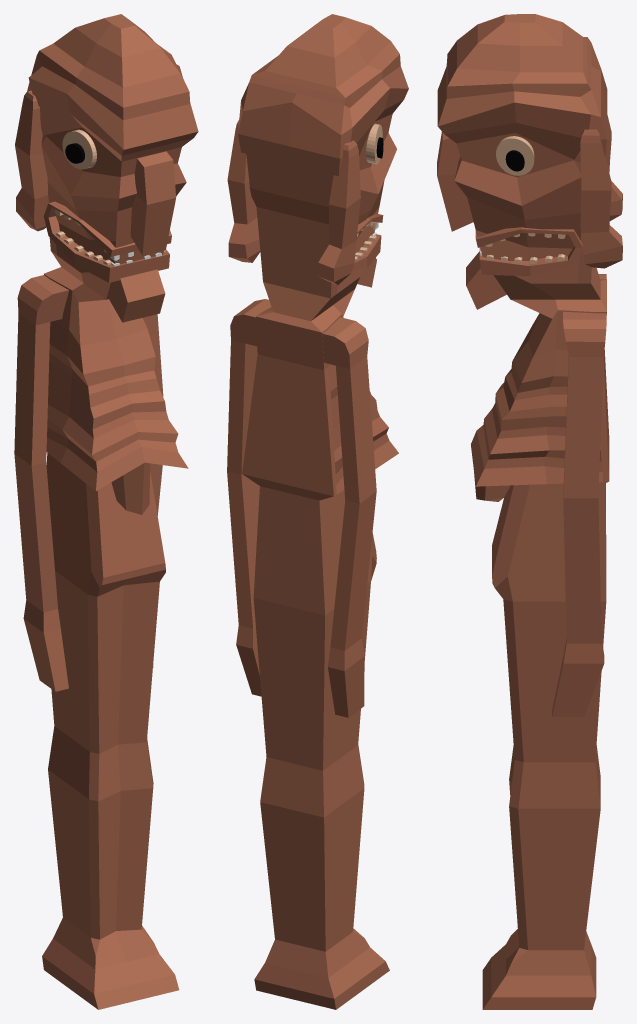
The model's file is Diablo.fbx.
3 views of the same model, side by side, from view 1: azimuth 30°, elevation 25°; view 2: azimuth 150°, elevation 25°; view 3: azimuth 270°, elevation 25° (orthographic).
Parts seen in each view (by area): view 1: Cube, Cube.006, Cube.004, Cube.005, Cube.002, Cube.001, Cube.007, Cylinder; view 2: Cube, Cube.006, Cube.005, Cube.002, Cylinder; view 3: Cube, Cube.006, Cube.005, Cube.002, Cube.004, Cube.001, Cylinder, Cube.007, Cube.017.
Part boxes in pixels (left/top/right/bottom): Cube: left=27, top=14, right=198, bottom=1009; Cube.006: left=14, top=275, right=163, bottom=691; Cube.004: left=130, top=151, right=176, bottom=255; Cube.005: left=15, top=90, right=48, bottom=231; Cube.002: left=43, top=201, right=171, bottom=282; Cube.001: left=107, top=269, right=165, bottom=322; Cube.007: left=111, top=462, right=150, bottom=514; Cylinder: left=62, top=129, right=96, bottom=169; Cube: left=238, top=14, right=408, bottom=1009; Cube.006: left=227, top=299, right=376, bottom=717; Cube.005: left=227, top=119, right=360, bottom=284; Cube.002: left=352, top=214, right=383, bottom=270; Cylinder: left=366, top=123, right=382, bottom=164; Cube: left=437, top=14, right=609, bottom=1009; Cube.006: left=552, top=274, right=606, bottom=717; Cube.005: left=580, top=115, right=622, bottom=268; Cube.002: left=475, top=227, right=582, bottom=276; Cube.004: left=437, top=132, right=473, bottom=231; Cube.001: left=466, top=251, right=506, bottom=309; Cylinder: left=496, top=136, right=534, bottom=175; Cube.007: left=474, top=473, right=510, bottom=501; Cube.017: left=485, top=233, right=565, bottom=264.
Bounding box in the file's own units: 64 × 439 × 76.14.
